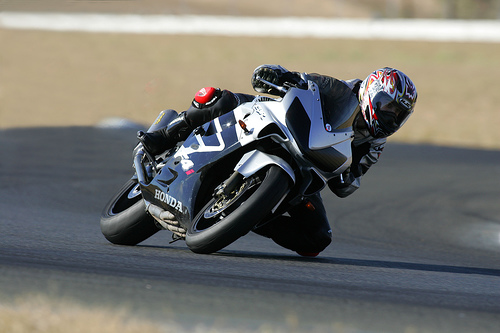helmet: (363, 67, 415, 137)
